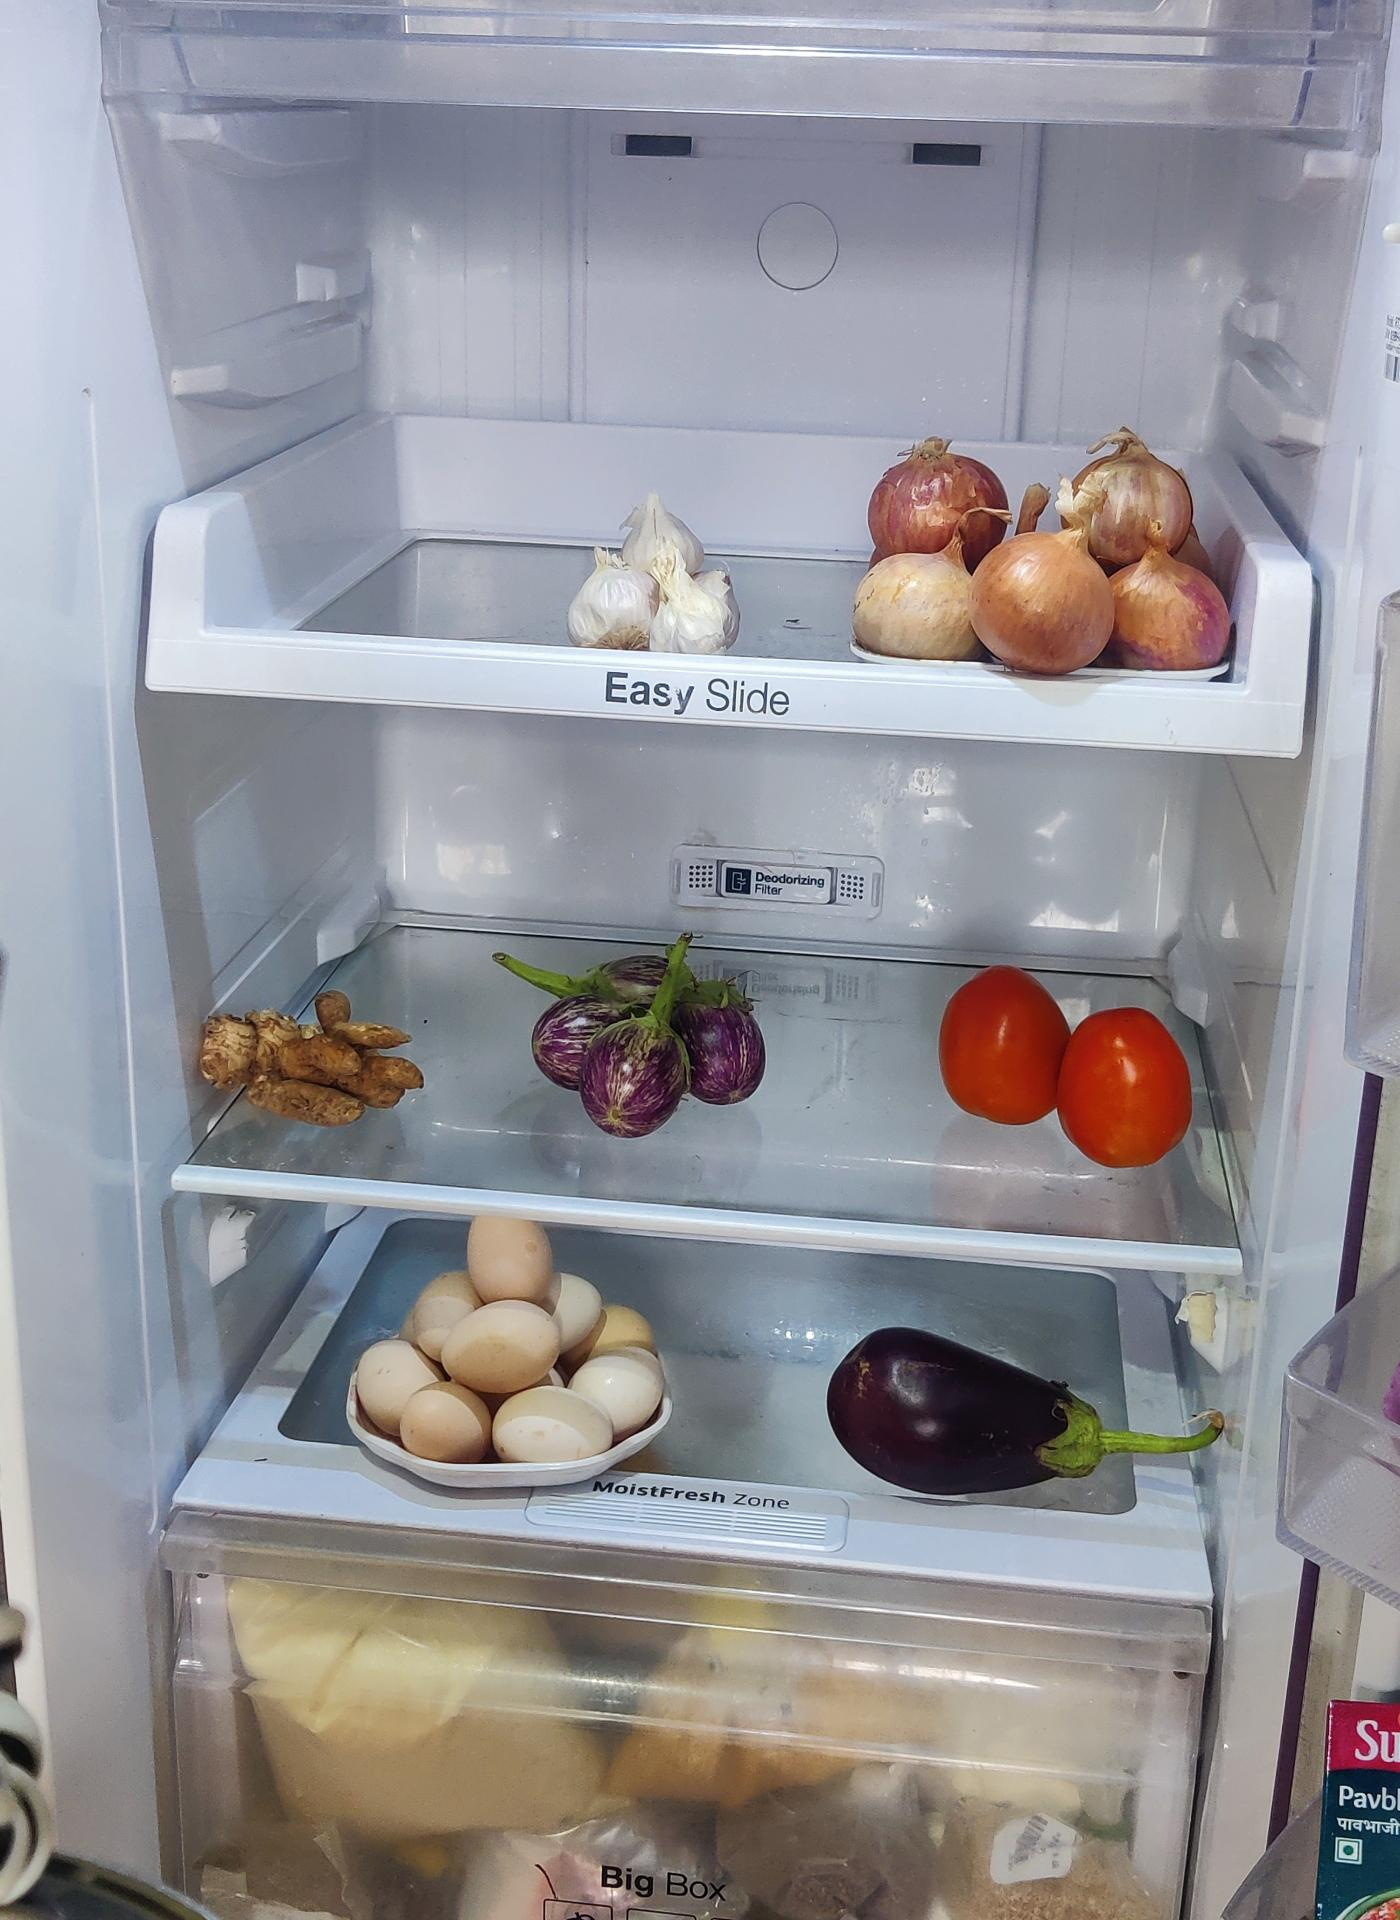brinjal: (827, 1327, 1172, 1506), (504, 957, 760, 1121)
egg: (340, 1210, 658, 1470)
garlic: (568, 496, 740, 660)
ginger: (195, 990, 423, 1131)
onion: (842, 432, 1242, 683)
tomato: (939, 964, 1199, 1166)
